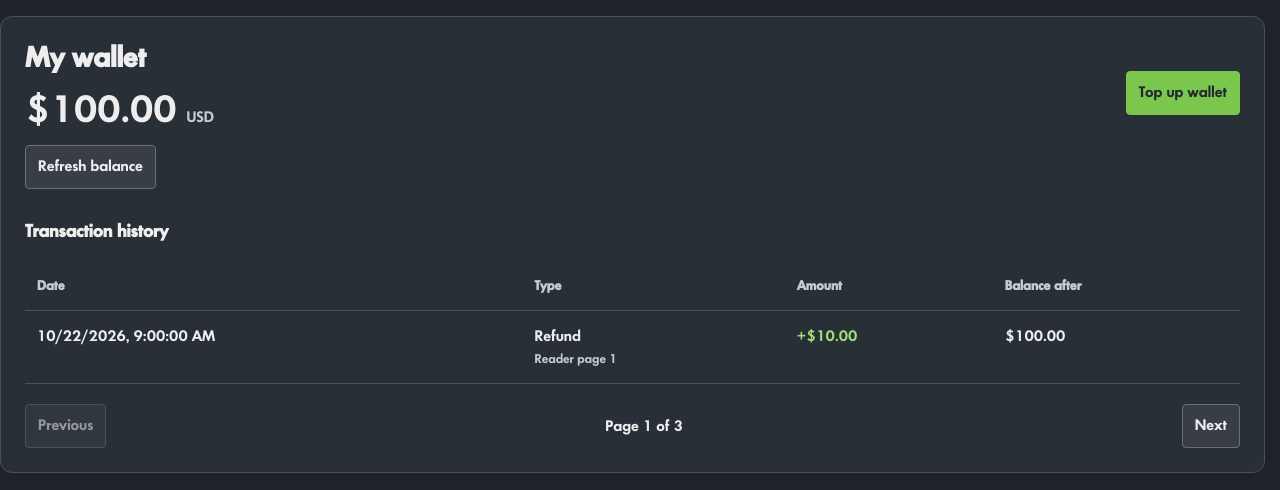
wallet transaction history (#74) › clears history and pagination immediately on an account change, ignoring late responses
Later steps or results of the test are not shown.
Check: the text "Reader page 1" is shown, box x1=534 y1=352 x2=617 y2=366
Click the button "Next".
click(1211, 426)  # box x1=1182 y1=404 x2=1240 y2=448
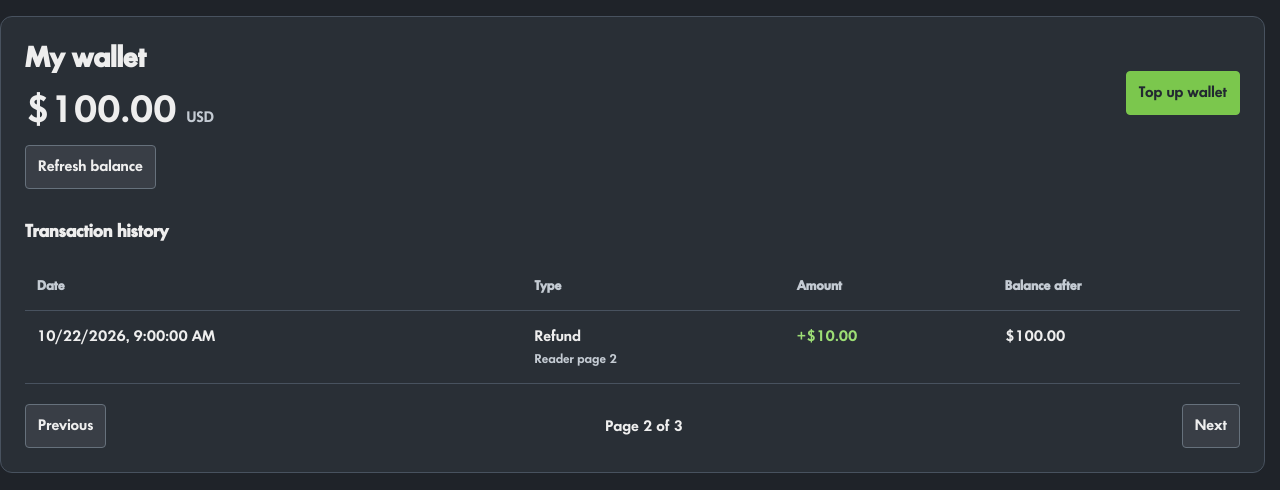
Check: the text "Reader page 2" is shown, box x1=534 y1=352 x2=617 y2=366
